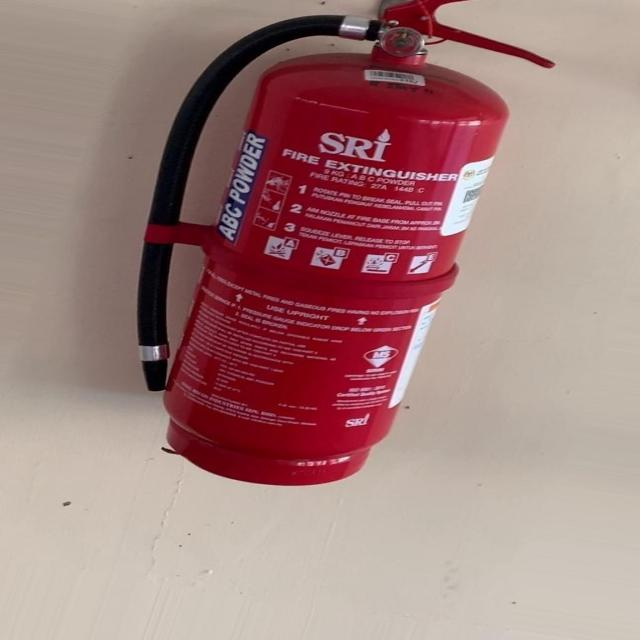fire_extinguisher: (122, 0, 567, 491)
